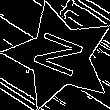N_E: (28, 29, 91, 84)
